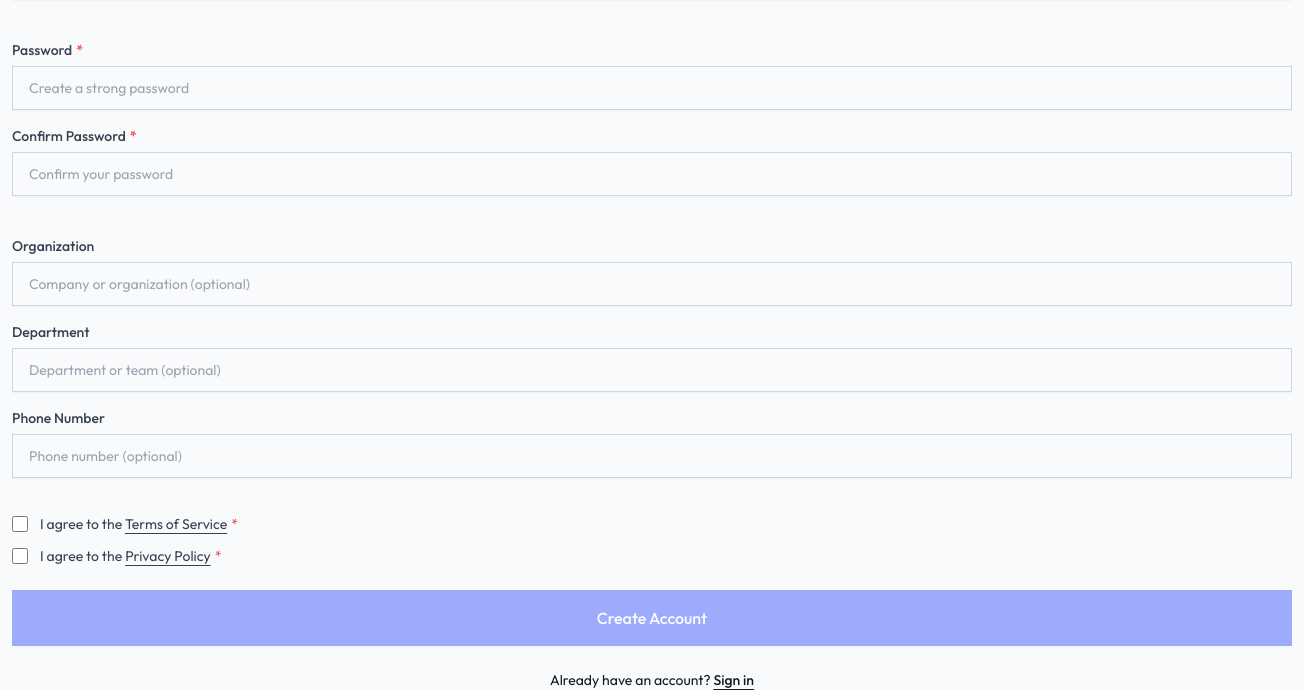
RegisterPage › Form Validation - Required Fields › should validate first name is required
(page scrolled)
Click the checkbox labelled "I agree to the Terms of Service *" at (20, 524), box [12, 516, 28, 532]
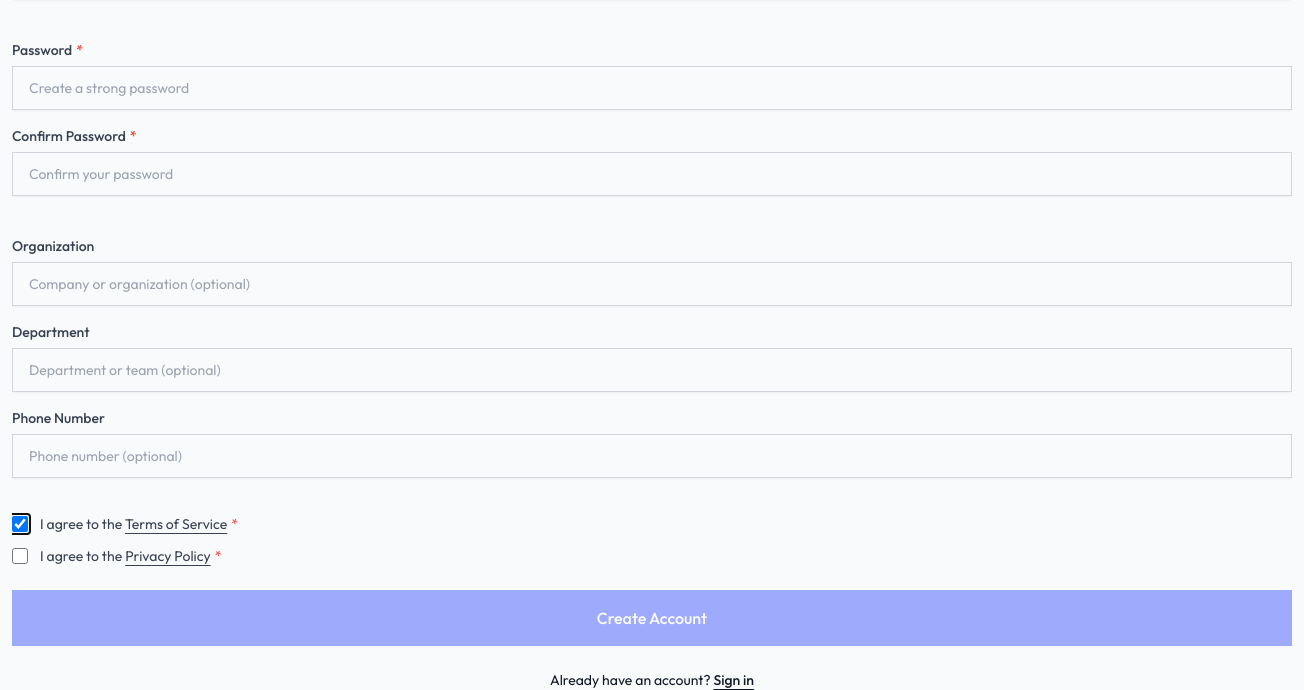
Click the checkbox labelled "I agree to the Privacy Policy *" at (20, 556), box [12, 548, 28, 564]
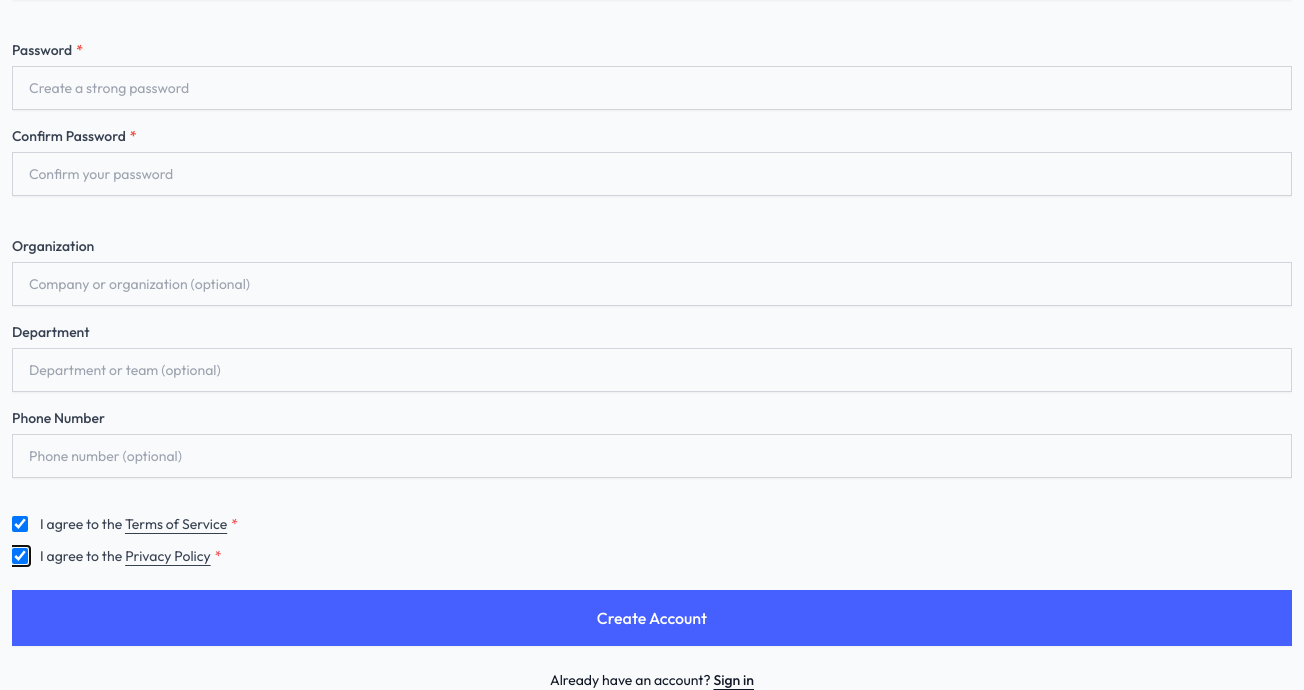
Click the button "Create Account" at (652, 618), box [12, 590, 1292, 646]
(page scrolled)
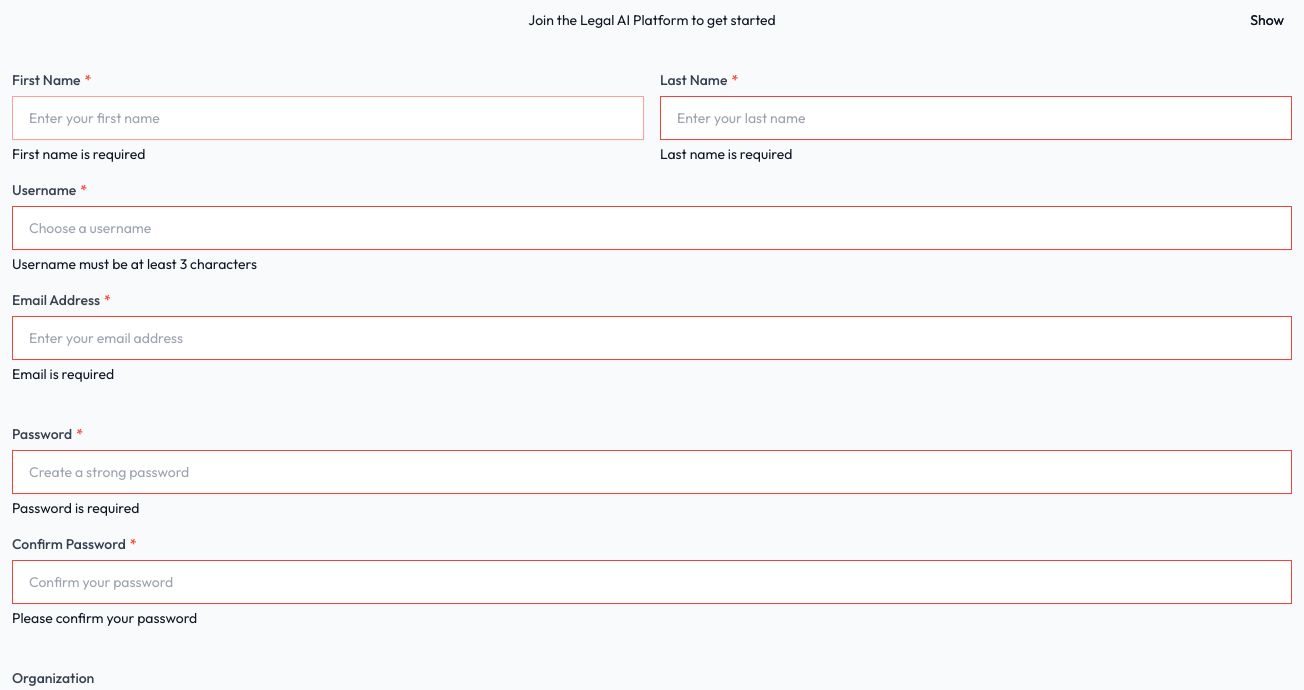
Result: the text "First name is required" is shown at [12, 145, 145, 163]
